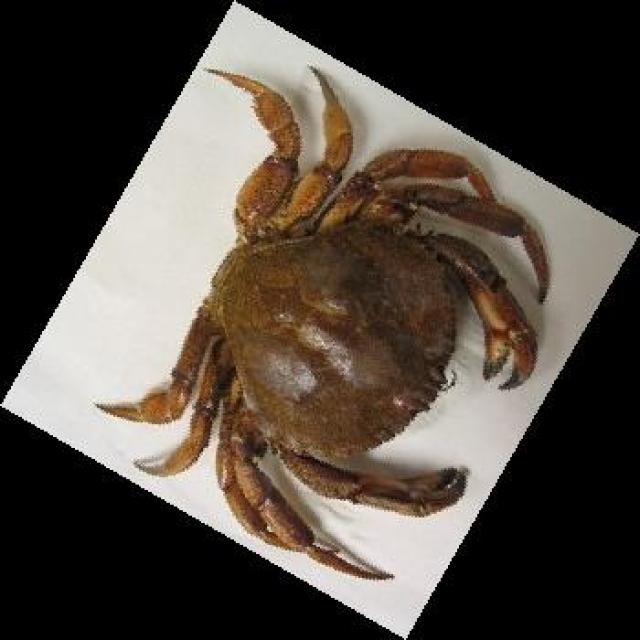Native Rock crab: (95, 68, 550, 578)
